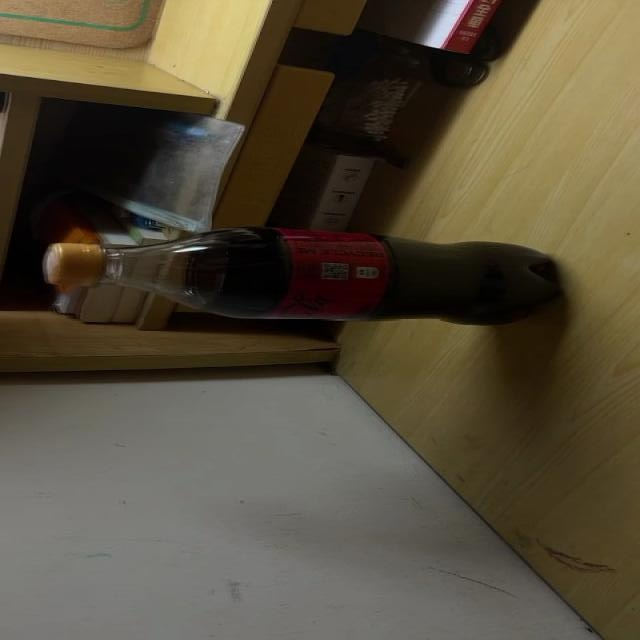Coca-Cola: (43, 226, 563, 325)
